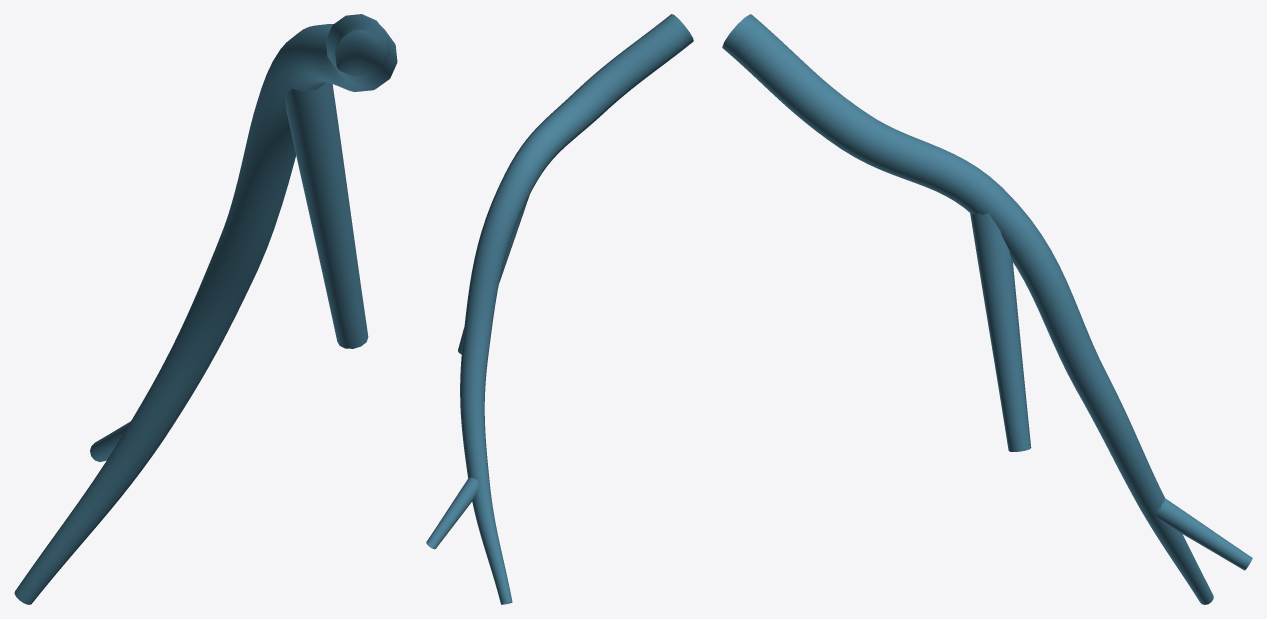
3 views of the same model, side by side, from view 1: azimuth 30°, elevation 25°; view 2: azimuth 150°, elevation 25°; view 3: azimuth 270°, elevation 25° (orthographic). The views are drawn at different scales.
Parts seen in each view (by area): view 1: 左肺下舌段支气管（第5段）; view 2: 左肺下舌段支气管（第5段）; view 3: 左肺下舌段支气管（第5段）.
Part boxes in pixels (bbox=[...]): 左肺下舌段支气管（第5段）: bbox=[14, 14, 397, 604]; 左肺下舌段支气管（第5段）: bbox=[426, 14, 693, 604]; 左肺下舌段支气管（第5段）: bbox=[722, 14, 1252, 604].
Size of the model in its own units: 0.0369 by 0.1263 by 0.1025.
